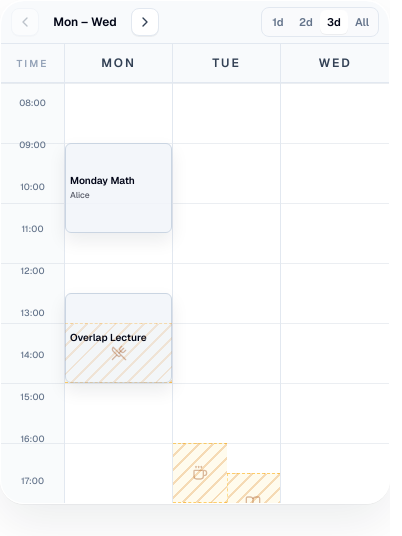
Test case: WeekView mobile day controls › switches to All days view and disables left/right navigation
What coordinates should you click on to do the following:
click the button with aria-label "Show all days"
I would click on:
 (362, 22)
Its box is [348,10,376,34].
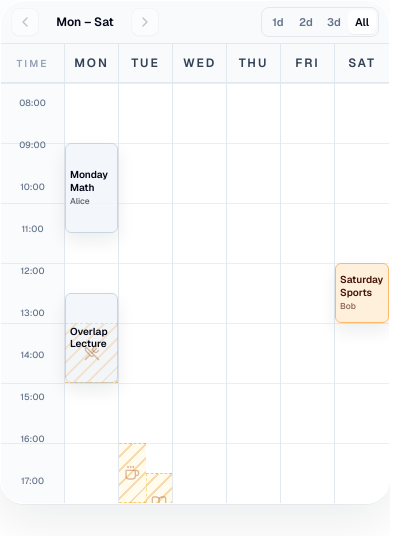
Expected: the button named "Previous days" is disabled, [11,8,39,36]
Result: the text "Mon – Sat" is shown at [56,14,114,30]
